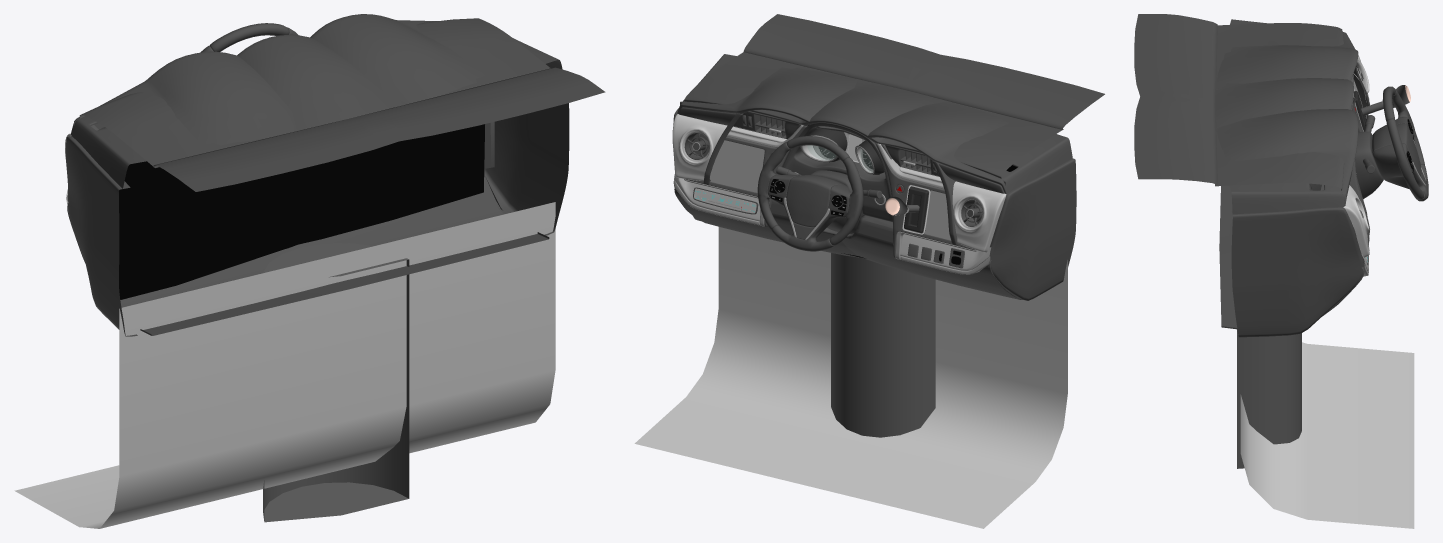
Rendered from DashBoard.fbx.
The picture shows the model from 3 angles, left to right: view 1: azimuth 30°, elevation 25°; view 2: azimuth 150°, elevation 25°; view 3: azimuth 270°, elevation 25°; orthographic projection. The views are drawn at different scales.
Visible parts, largest first — view 1: Dashboard, pPlane1, pCylinder1, e180_steer; view 2: Dashboard, pPlane1, pCylinder1, e180_steer; view 3: Dashboard, pPlane1, pCylinder1, e180_steer, Gear.
Boxes of the visible parts, <box> form: Dashboard: <box>65,14,605,336</box>; pPlane1: <box>14,202,555,528</box>; pCylinder1: <box>263,243,409,522</box>; e180_steer: <box>200,23,298,52</box>; Dashboard: <box>672,14,1104,300</box>; pPlane1: <box>634,227,1067,528</box>; pCylinder1: <box>831,253,935,437</box>; e180_steer: <box>757,136,863,251</box>; Dashboard: <box>1134,14,1383,337</box>; pPlane1: <box>1240,342,1414,528</box>; pCylinder1: <box>1237,329,1301,468</box>; e180_steer: <box>1372,86,1428,201</box>; Gear: <box>1361,85,1410,115</box>.
Bounding box in the file's own units: 425 × 387 × 291.
